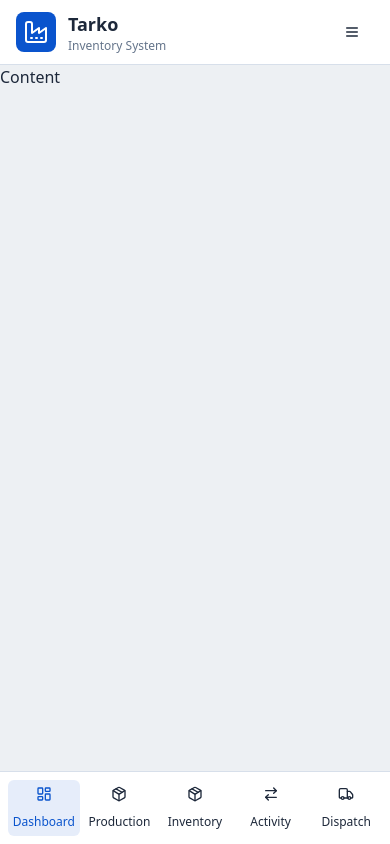
Test: Layout - Mobile Menu › shows user role in mobile menu
Click the 1st button.
click(352, 32)  # box [330,10,374,54]
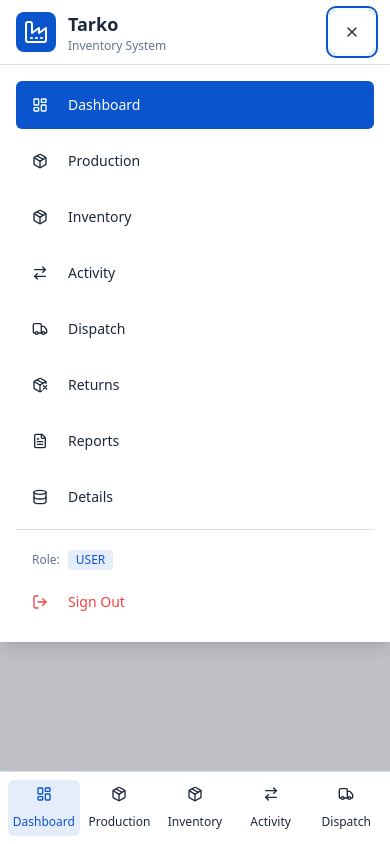
Expected: the text "Role:" is shown, [32,552,60,568]
